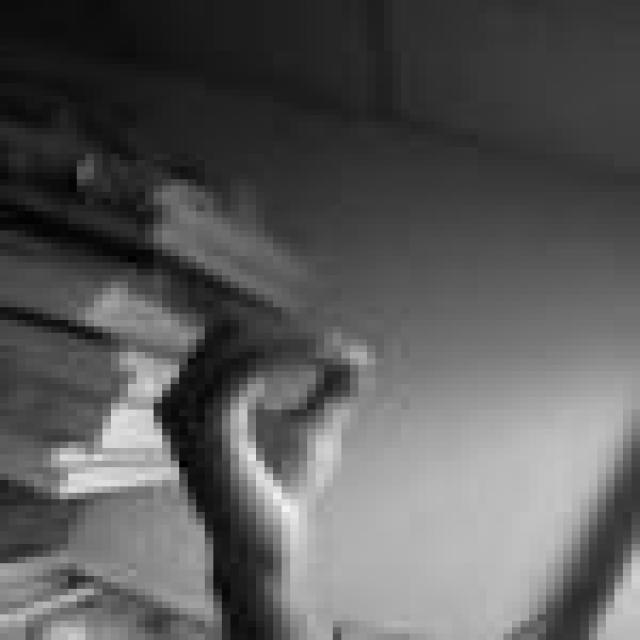O: (150, 317, 372, 528)
